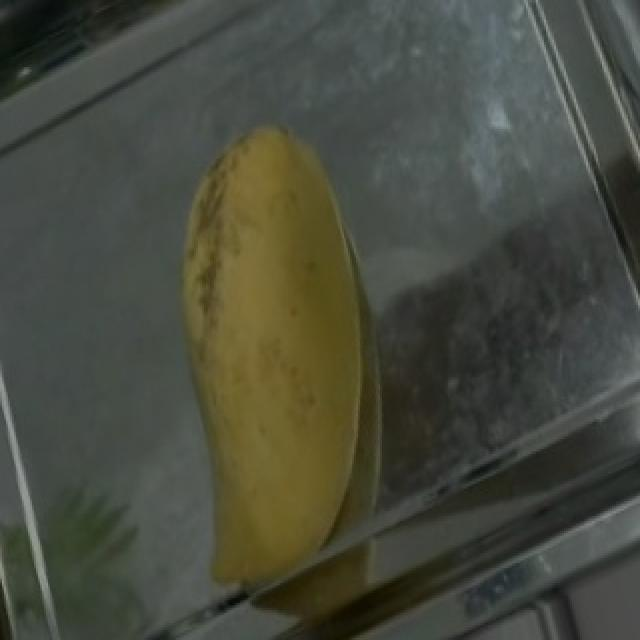fruit: (132, 80, 452, 477)
